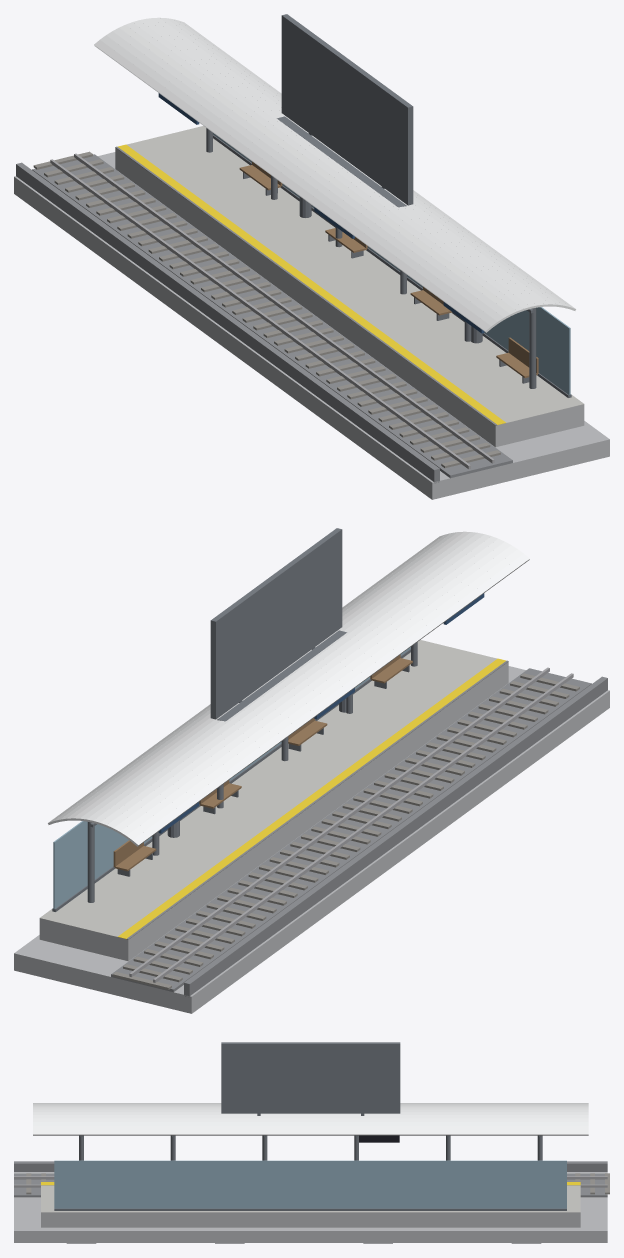
The model's file is station.glb.
The picture shows the model from 3 angles, top to bottom: view 1: azimuth 30°, elevation 25°; view 2: azimuth 150°, elevation 25°; view 3: azimuth 270°, elevation 25°; orthographic projection. The views are drawn at different scales.
Parts seen in each view (by area): view 1: station, station_billboard_frame; view 2: station, station_billboard_frame; view 3: station, station_billboard_frame.
Part boxes in pixels (x1=…): station: x1=14, y1=17, x2=609, y2=499; station_billboard_frame: x1=277, y1=14, x2=413, y2=207; station: x1=14, y1=531, x2=609, y2=1013; station_billboard_frame: x1=210, y1=528, x2=346, y2=721; station: x1=14, y1=1103, x2=609, y2=1243; station_billboard_frame: x1=221, y1=1042, x2=400, y2=1115.
Size of the model in its own units: 5.4 by 8.42 by 22.09.
